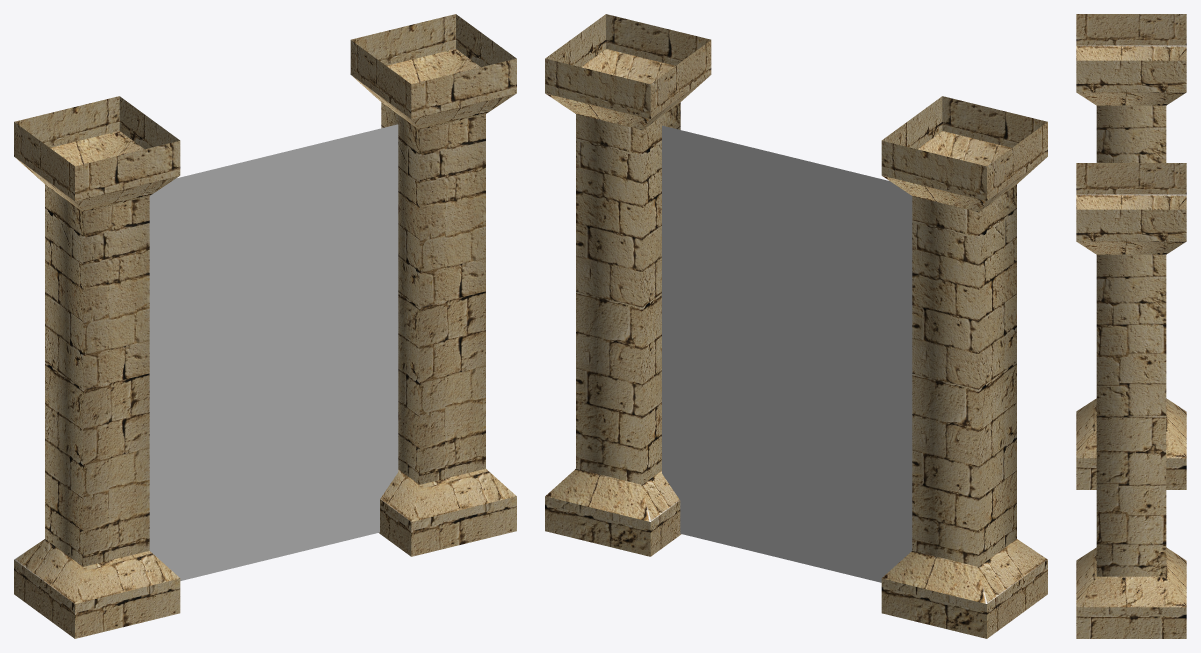
File: muret.FBX
3 renders of one model, left to right at view 1: azimuth 30°, elevation 25°; view 2: azimuth 150°, elevation 25°; view 3: azimuth 270°, elevation 25°, orthographic. The views are drawn at different scales.
Visible parts, largest first — view 1: St_Portail_01a001, pillier001, pillier002; view 2: St_Portail_01a001, pillier001, pillier002; view 3: pillier002, pillier001.
Boxes of the visible parts, box(x1,y1,x2,y2) form: St_Portail_01a001: box(149, 124, 398, 580); pillier001: box(14, 96, 180, 638); pillier002: box(350, 14, 516, 556); St_Portail_01a001: box(662, 125, 912, 582); pillier001: box(881, 96, 1047, 638); pillier002: box(545, 14, 711, 556); pillier002: box(1076, 163, 1186, 638); pillier001: box(1076, 14, 1186, 489).
Bounding box in the file's own units: 665 × 680 × 159.
